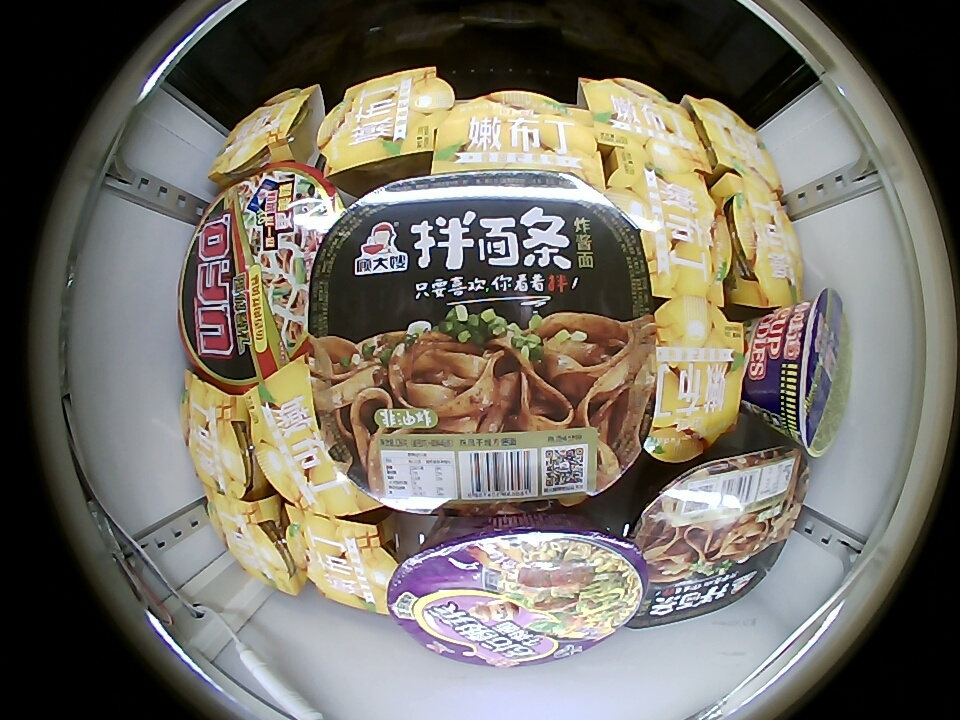buding: (249, 357, 374, 517), (431, 91, 605, 188), (610, 172, 732, 306), (644, 297, 743, 462), (318, 67, 453, 183), (579, 76, 711, 172), (285, 504, 398, 616), (714, 173, 803, 307), (208, 85, 320, 186), (204, 489, 304, 593), (182, 373, 256, 500), (687, 96, 781, 192)
gudasao: (308, 169, 659, 516), (635, 444, 809, 629)
heweidao: (766, 287, 849, 457)
laotansuancai: (386, 515, 648, 668)
ufo2: (180, 166, 346, 391)
